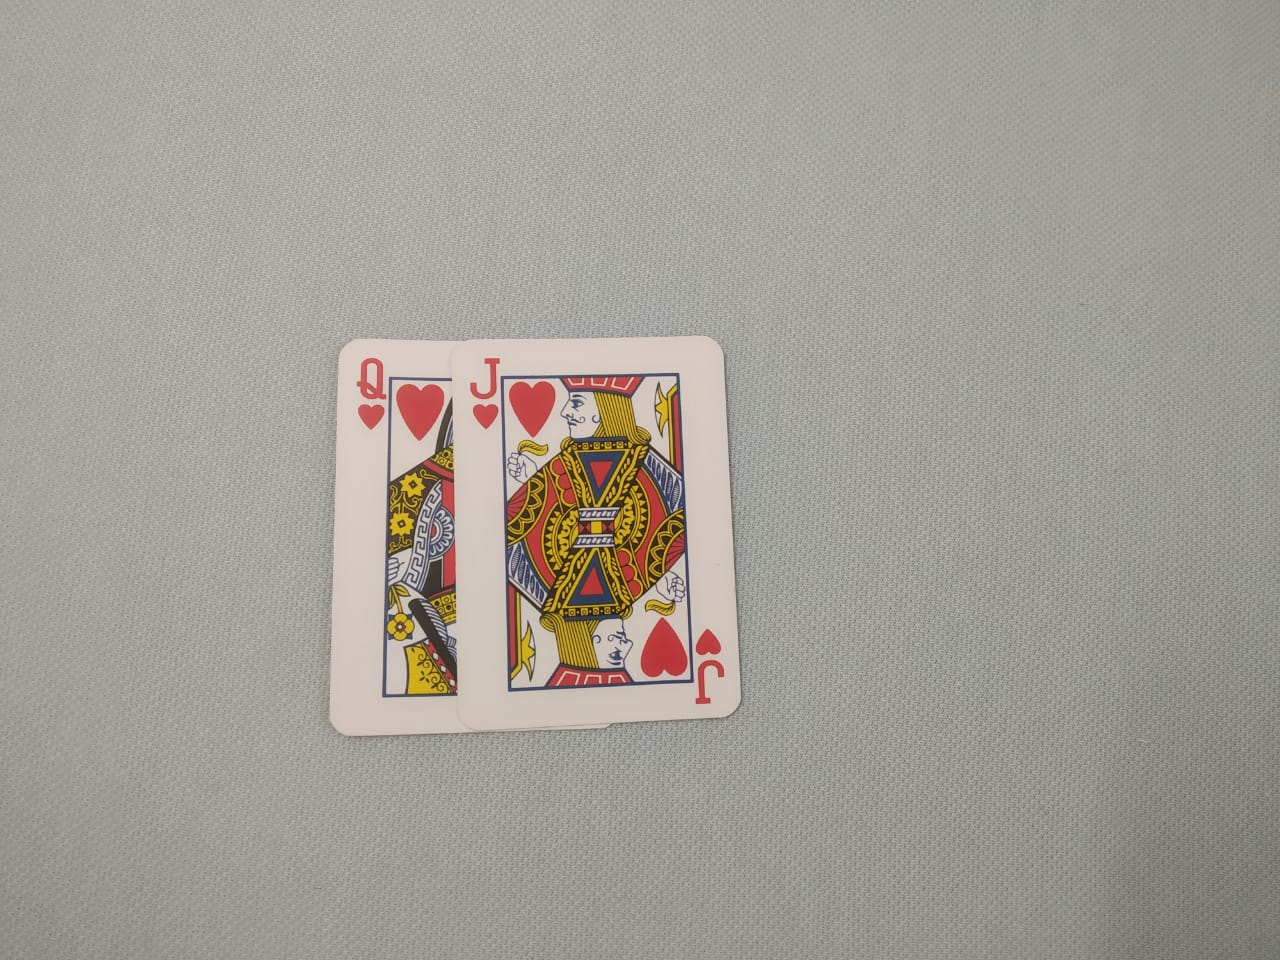jack: (446, 328, 748, 724)
queen: (329, 333, 623, 736)
